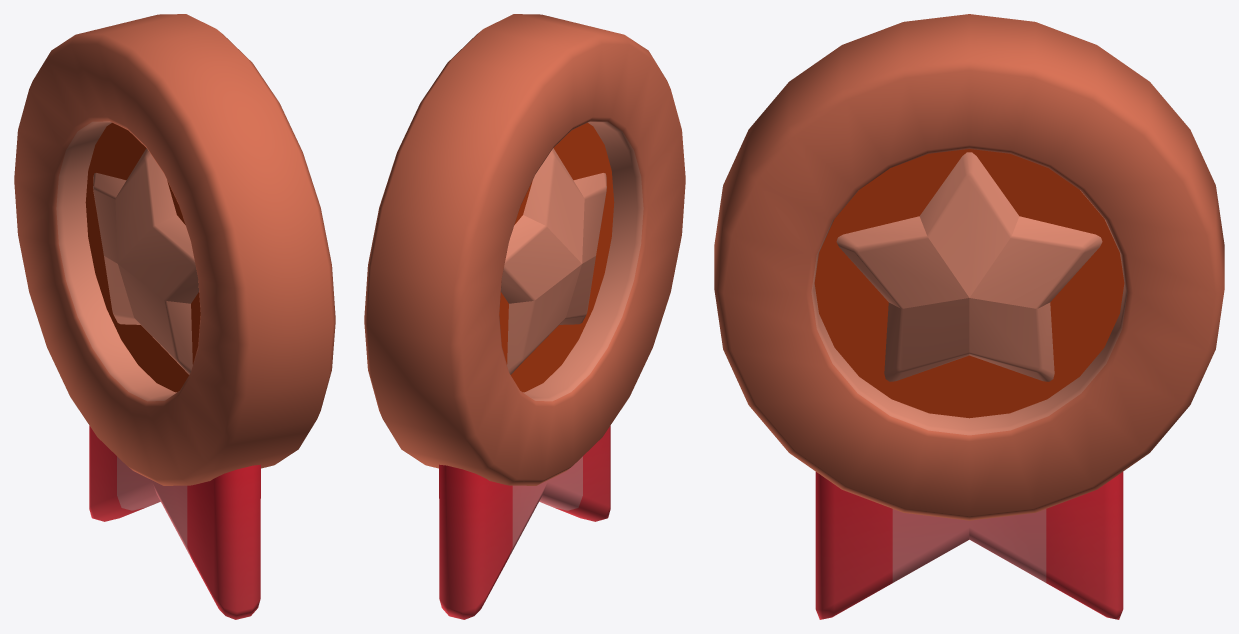
File: Coin_V4_02.fbx
3 renders of one model, left to right at view 1: azimuth 30°, elevation 25°; view 2: azimuth 150°, elevation 25°; view 3: azimuth 270°, elevation 25°, orthographic. The views are drawn at different scales.
Visible parts, largest first — view 1: Coin_V4_02; view 2: Coin_V4_02; view 3: Coin_V4_02.
Boxes of the visible parts, x1=… form: Coin_V4_02: x1=14, y1=14, x2=335, y2=619; Coin_V4_02: x1=364, y1=14, x2=685, y2=619; Coin_V4_02: x1=714, y1=14, x2=1224, y2=619.
Size of the model in its own units: 12.19 by 53.92 by 43.
